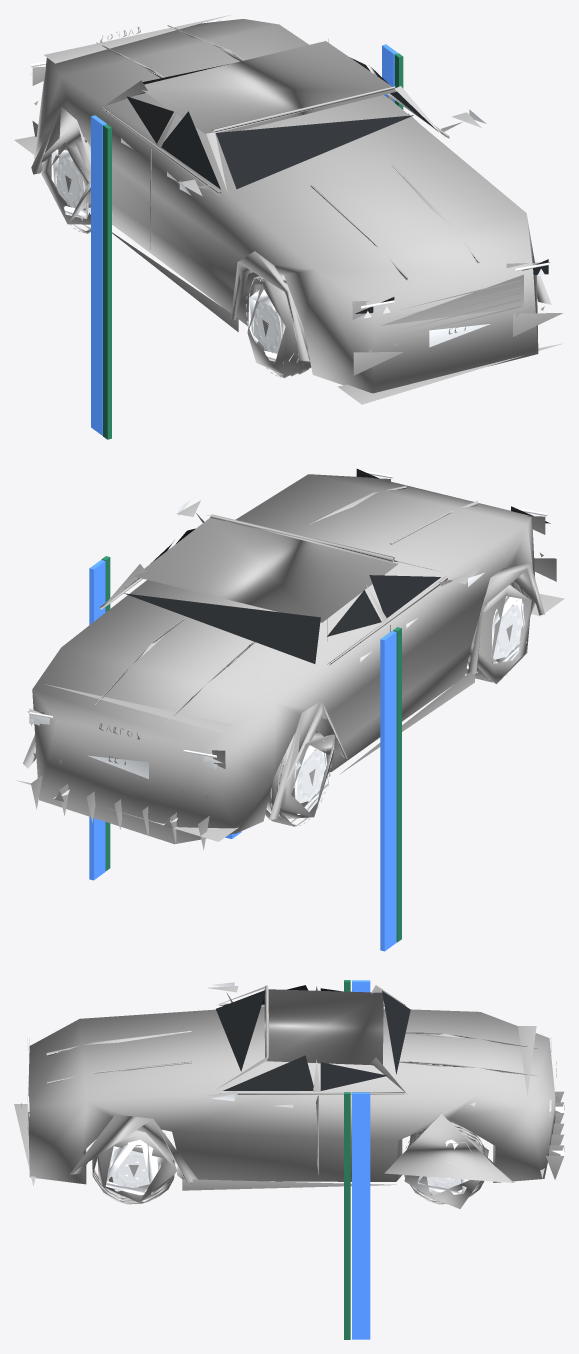
The model's file is caceres-gt-police.glb.
3 renders of one model, top to bottom at view 1: azimuth 30°, elevation 25°; view 2: azimuth 150°, elevation 25°; view 3: azimuth 270°, elevation 25°, orthographic. The views are drawn at different scales.
Parts seen in each view (by area): view 1: CaceresGTPolice; view 2: CaceresGTPolice; view 3: CaceresGTPolice.
Boxes of the visible parts, x1,y1,x2,y2 form: CaceresGTPolice: [14, 15, 563, 439]; CaceresGTPolice: [16, 469, 564, 951]; CaceresGTPolice: [14, 980, 564, 1339].
Bounding box in the file's own units: 2.34 × 2.51 × 4.77.
